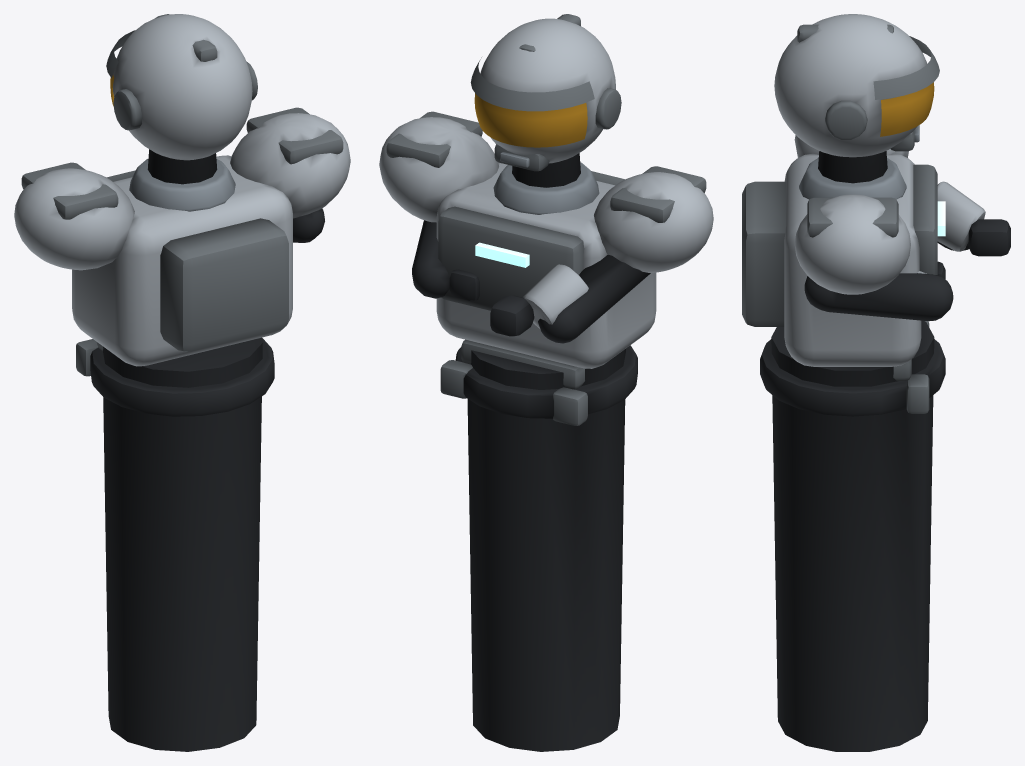
File: spartan.glb
3 views of the same model, side by side, from view 1: azimuth 30°, elevation 25°; view 2: azimuth 150°, elevation 25°; view 3: azimuth 270°, elevation 25° (orthographic).
Parts seen in each view (by area): view 1: body, aim, head; view 2: body, aim, head; view 3: body, head, aim.
Part boxes in pixels (x1=…): body: x1=72, y1=149, x2=292, y2=751; aim: x1=14, y1=107, x2=350, y2=270; head: x1=106, y1=14, x2=257, y2=160; body: x1=436, y1=153, x2=656, y2=751; aim: x1=379, y1=111, x2=713, y2=343; head: x1=470, y1=14, x2=621, y2=171; body: x1=742, y1=151, x2=945, y2=751; head: x1=774, y1=14, x2=939, y2=157; aim: x1=794, y1=135, x2=1010, y2=321.
Bounding box in the file's own units: 1.14 × 2.37 × 0.825.
